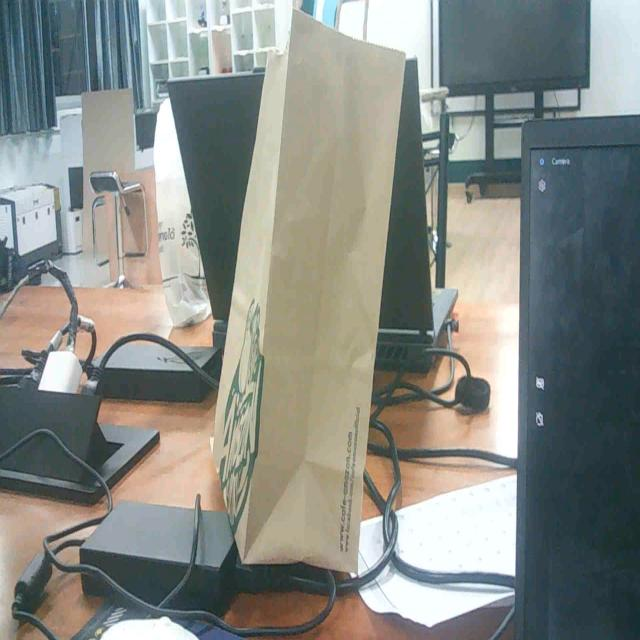bag: (182, 0, 415, 591)
